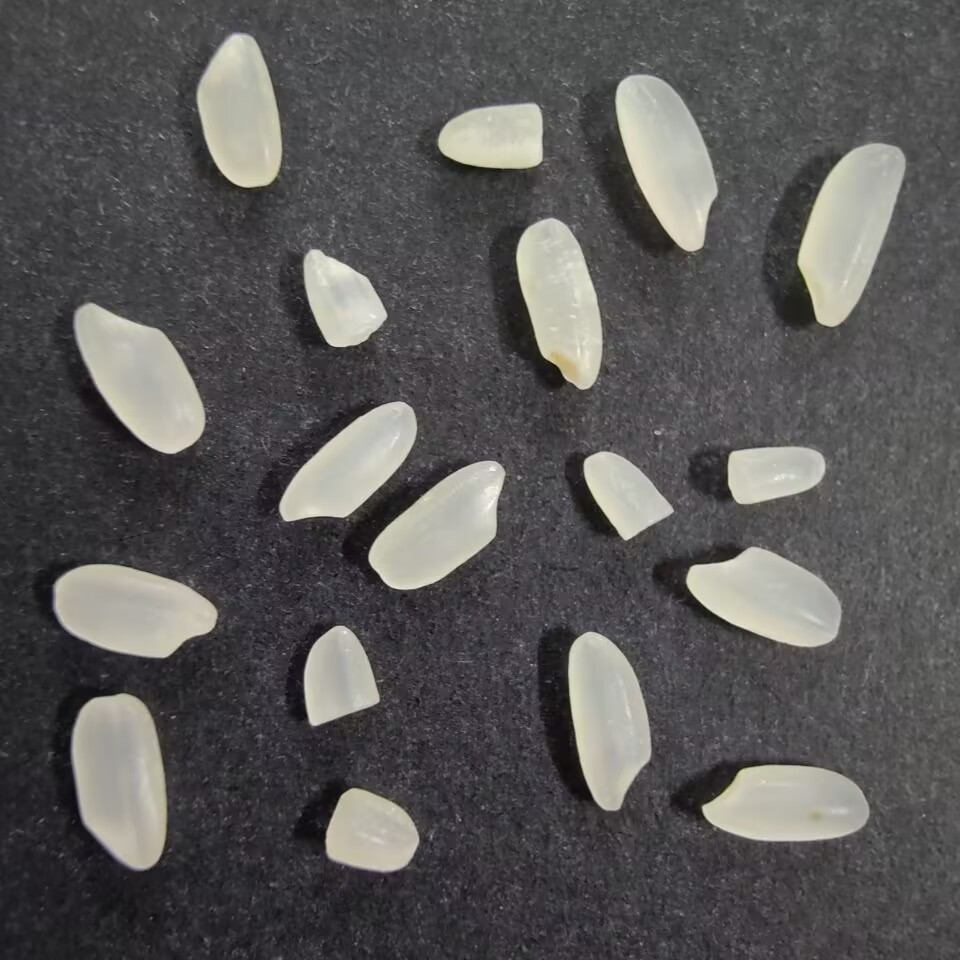broken: (298, 246, 391, 352), (321, 785, 425, 875), (582, 449, 676, 543), (434, 100, 549, 176), (300, 623, 379, 731), (723, 443, 830, 508)
rice: (792, 139, 910, 333), (72, 297, 209, 459), (611, 73, 725, 256), (66, 690, 170, 874), (369, 457, 507, 594), (276, 398, 420, 527), (49, 559, 221, 664), (683, 543, 845, 650), (512, 214, 609, 392), (563, 629, 654, 815), (192, 26, 285, 190), (697, 759, 874, 844)
